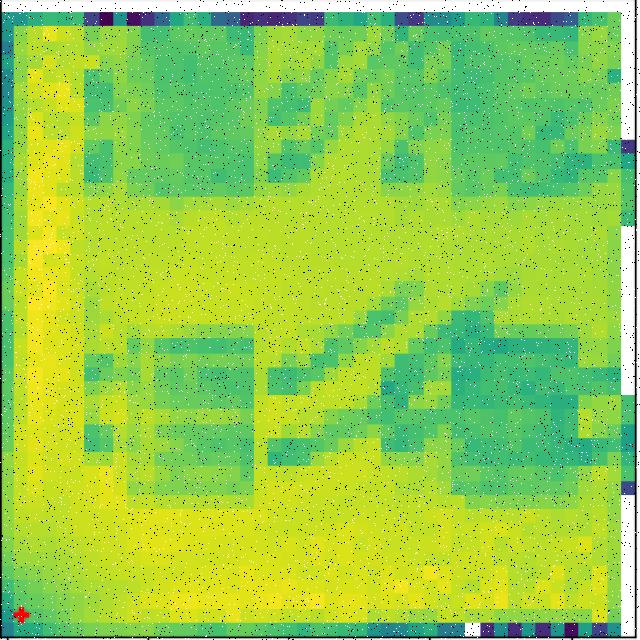Concrete: (438, 329, 580, 509)
Glass: (445, 34, 596, 200)
Metal: (127, 331, 255, 508)
Wood: (128, 28, 256, 203)
